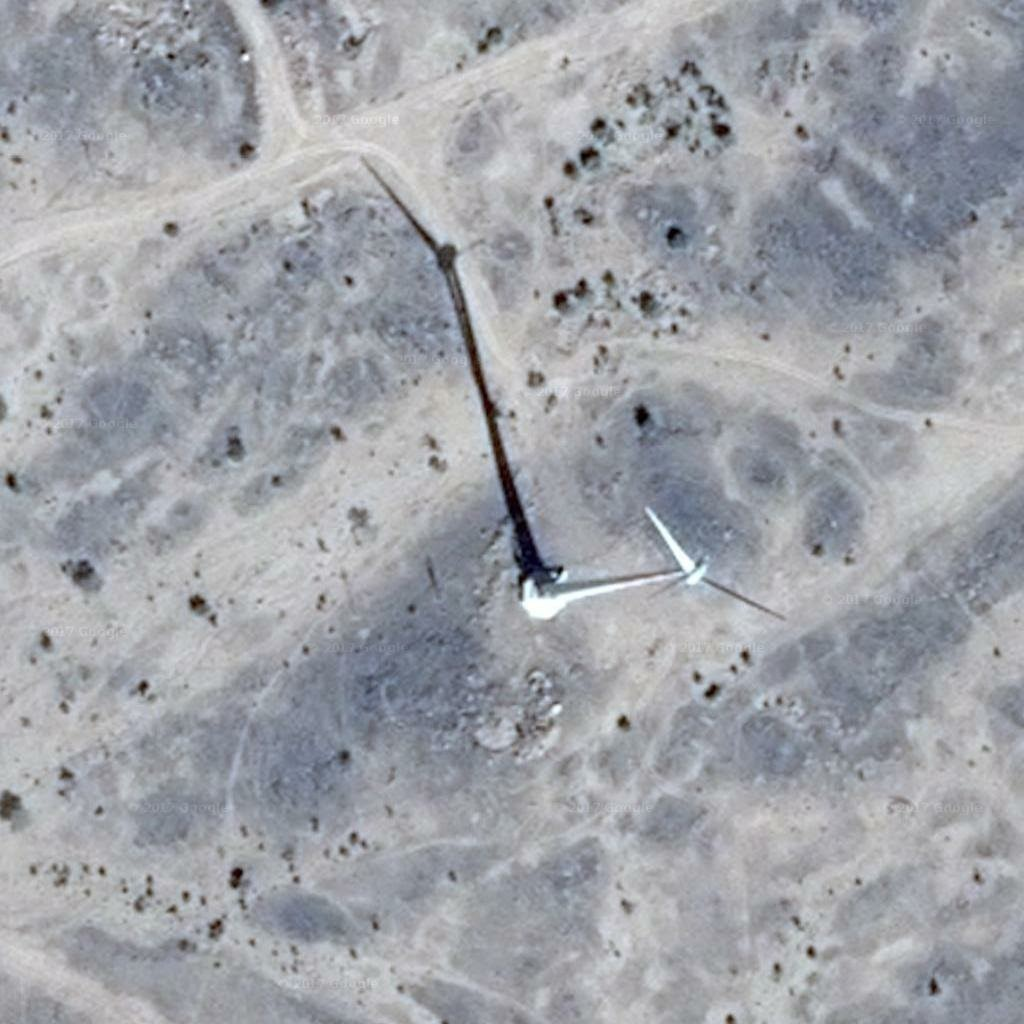Windmill: (350, 154, 554, 580)
